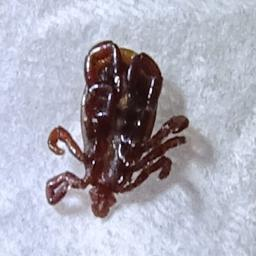Rhipicephalus sanguineus: (44, 40, 189, 219)
